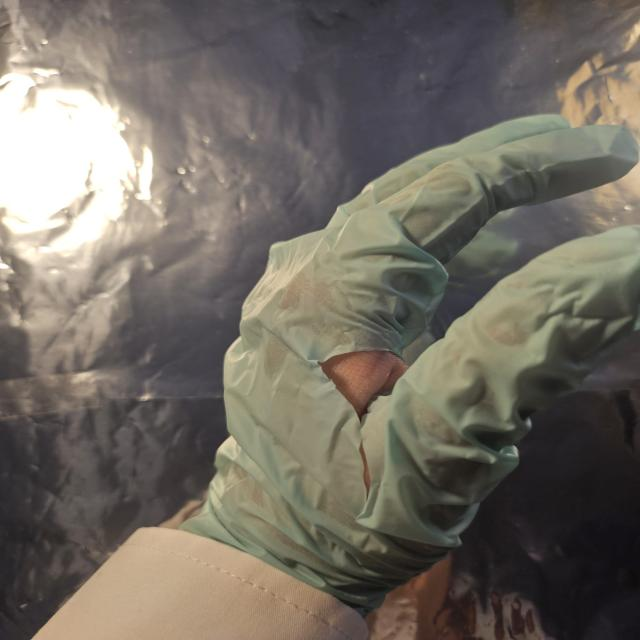gloves_damaged: (172, 107, 640, 603)
